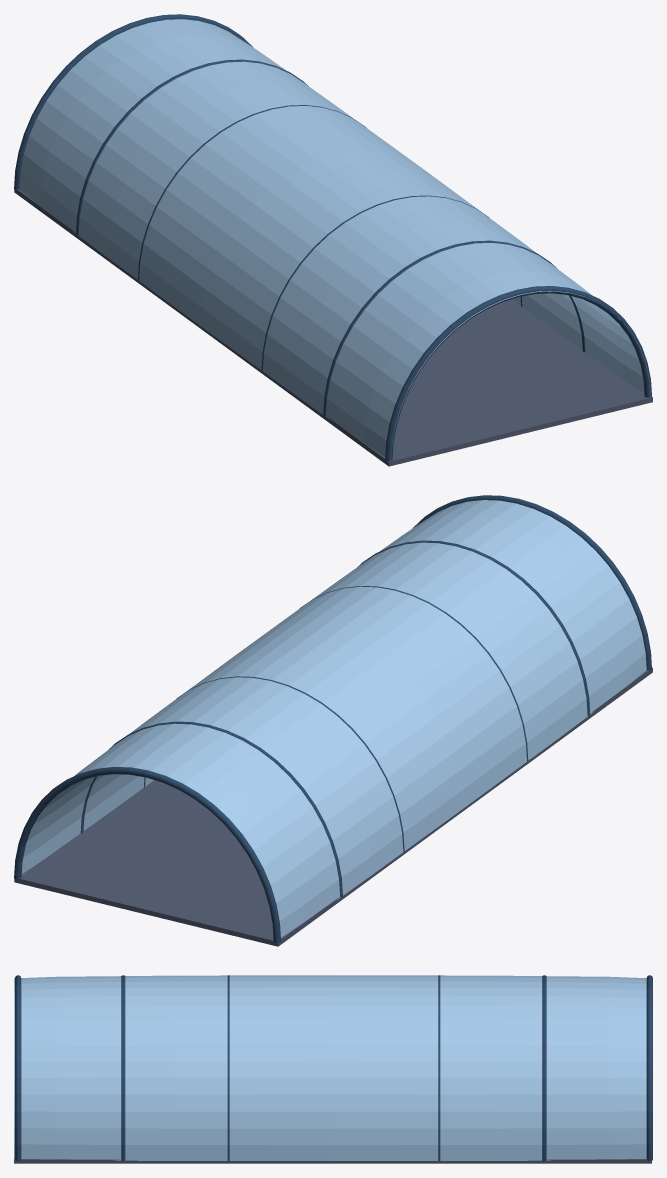
File: tunel1.fbx
3 views of the same model, one above another, from view 1: azimuth 30°, elevation 25°; view 2: azimuth 150°, elevation 25°; view 3: azimuth 270°, elevation 25° (orthographic). The views are drawn at different scales.
Parts seen in each view (by area): view 1: Arco_0.001, Pasillo.002, Arco_0; view 2: Arco_0.001, Pasillo.002, Arco_0; view 3: Arco_0.001, Arco_0, Pasillo.002.
Boxes of the visible parts, <box> form: Arco_0.001: <box>19,19,650,460</box>; Pasillo.002: <box>14,189,652,466</box>; Arco_0: <box>14,14,651,462</box>; Arco_0.001: <box>21,500,646,937</box>; Pasillo.002: <box>14,667,652,946</box>; Arco_0: <box>14,495,651,943</box>; Arco_0.001: <box>14,975,646,1160</box>; Arco_0: <box>15,975,652,1160</box>; Pasillo.002: <box>14,1158,651,1163</box>.
Size of the model in its own units: 820 by 421 by 2003.
